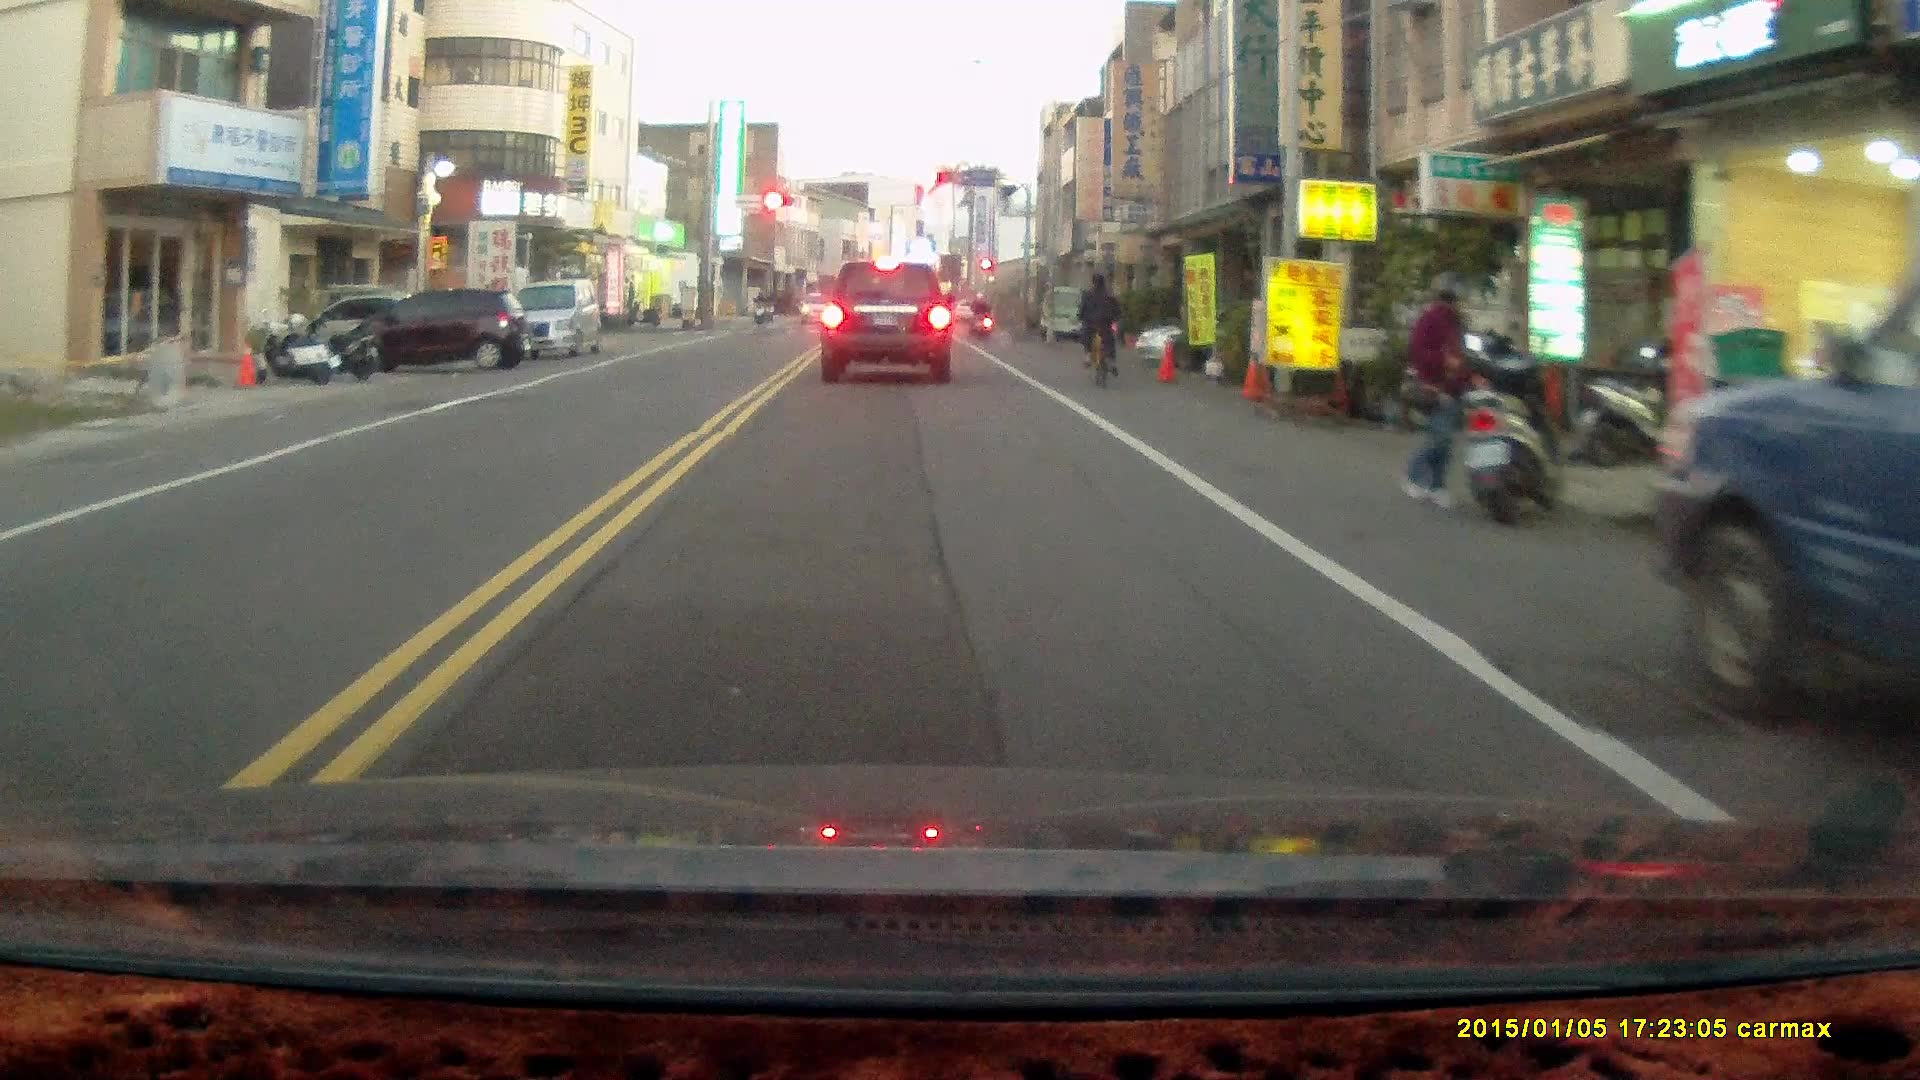pedestrian: (1395, 271, 1483, 505)
rider: (1077, 271, 1124, 389), (968, 289, 992, 341), (750, 287, 771, 326)
vehicle: (1647, 248, 1920, 718), (346, 285, 532, 380), (820, 261, 957, 385), (489, 276, 609, 362)
